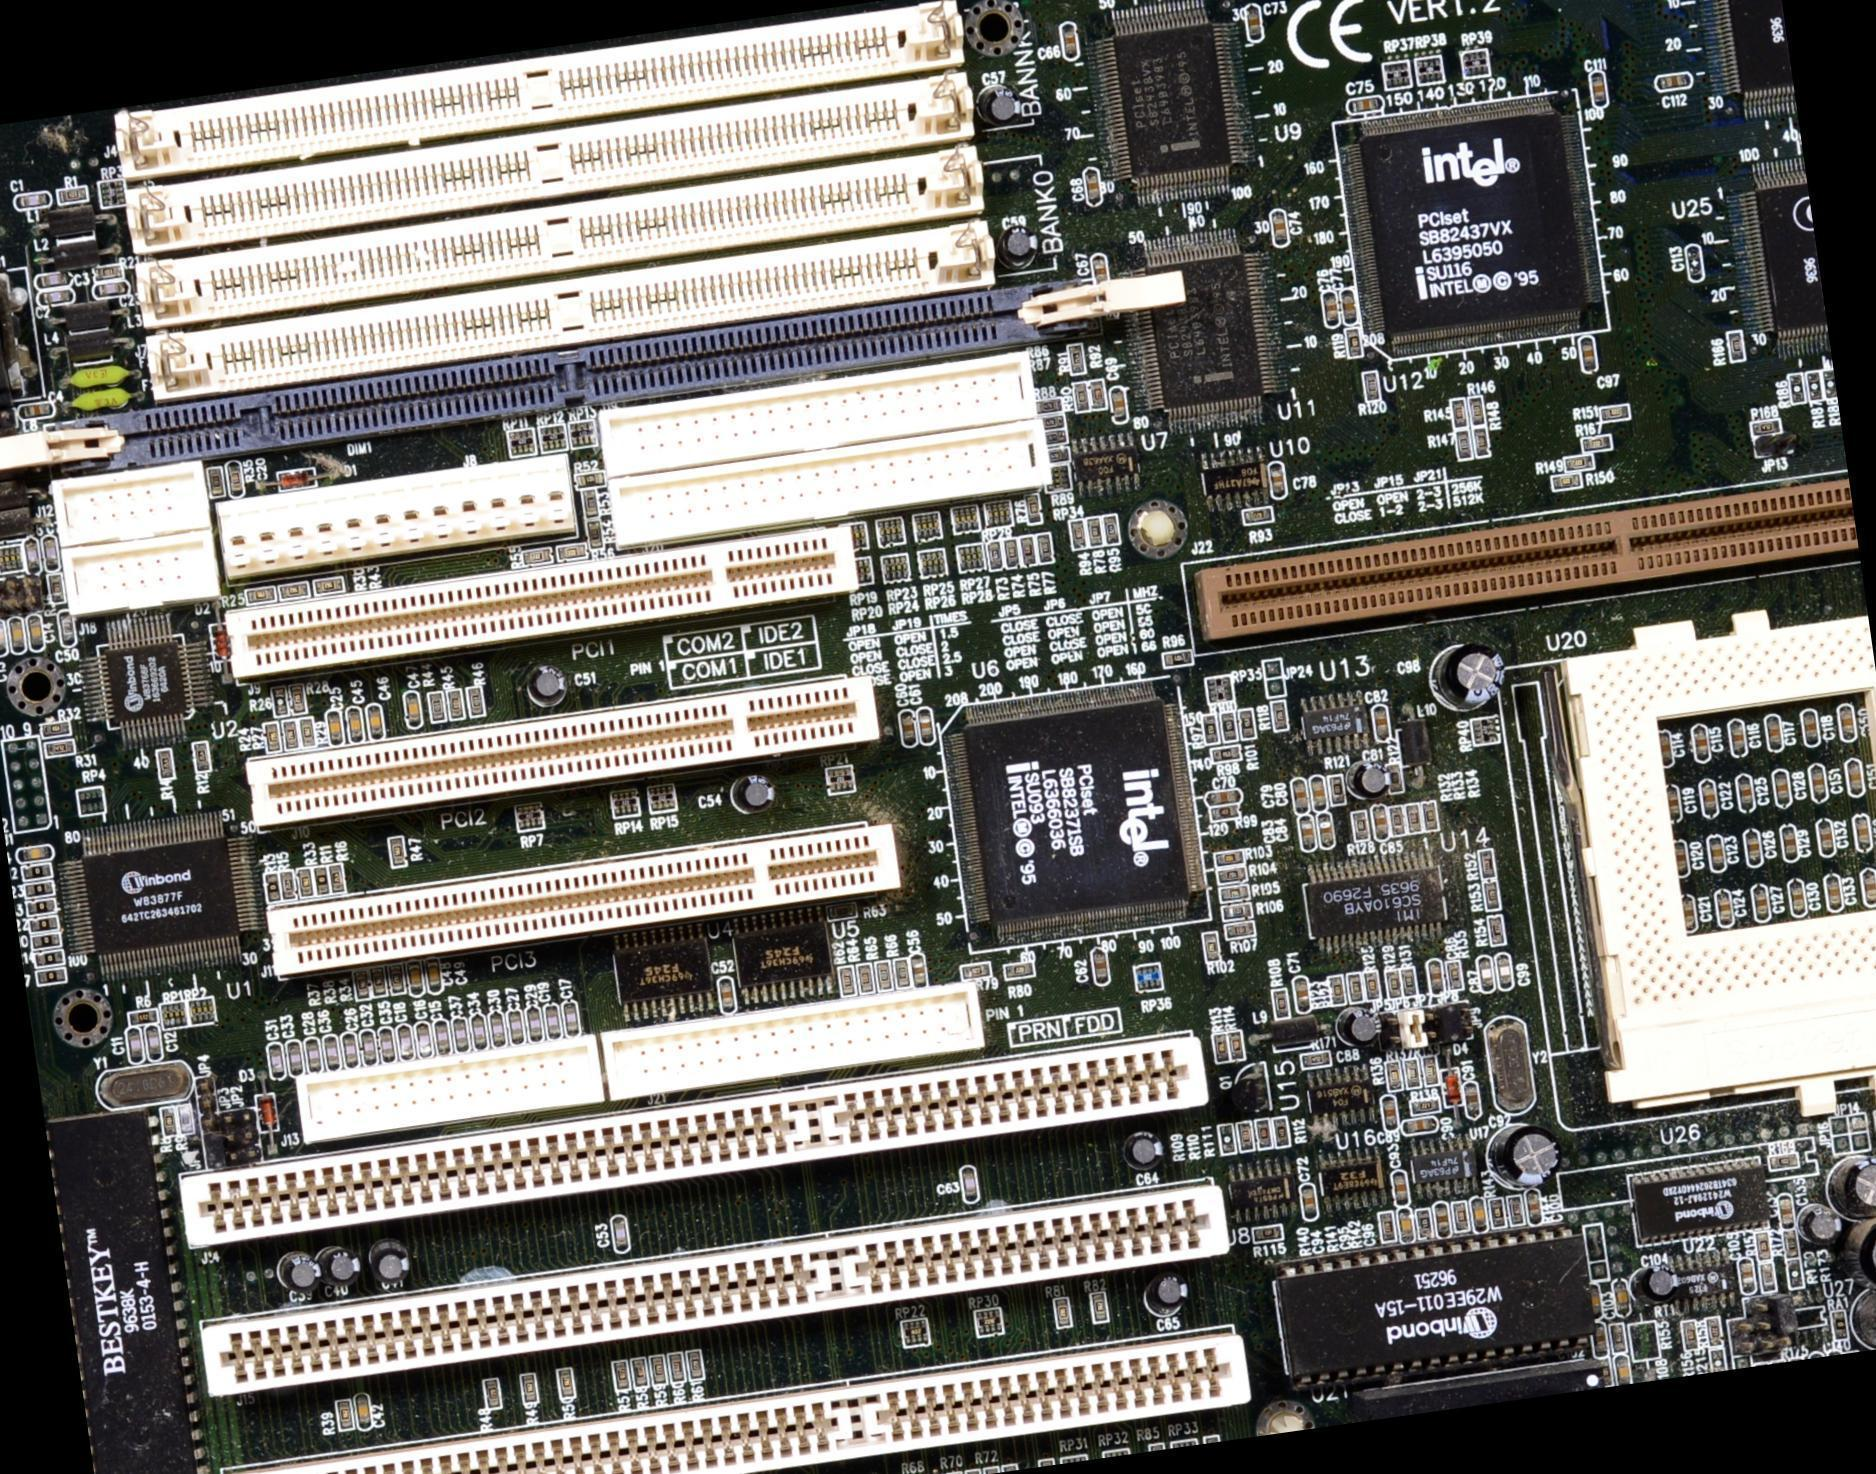Capacitor: (1348, 760, 1389, 800), (1738, 822, 1769, 869), (1803, 757, 1832, 805), (1682, 241, 1708, 291), (1820, 870, 1847, 915), (1838, 757, 1867, 800), (1703, 831, 1731, 874), (1770, 764, 1795, 809), (1731, 772, 1757, 815), (1724, 712, 1747, 760), (1852, 807, 1875, 852), (1798, 707, 1822, 749), (606, 1212, 632, 1252), (1814, 818, 1837, 860), (1835, 702, 1858, 743), (36, 288, 77, 310), (896, 713, 919, 750), (909, 953, 930, 996), (1296, 1180, 1319, 1220), (1735, 1256, 1757, 1296), (1699, 780, 1721, 821), (1779, 821, 1799, 865), (1856, 863, 1875, 910), (1672, 837, 1693, 877), (1786, 879, 1807, 918), (1494, 952, 1515, 992), (1377, 1093, 1398, 1133), (413, 1018, 435, 1056), (225, 460, 248, 496), (451, 1011, 471, 1052), (376, 1023, 396, 1064), (718, 975, 738, 1015), (1764, 712, 1784, 751), (1713, 887, 1735, 926), (23, 538, 44, 575), (521, 1007, 544, 1042), (42, 532, 62, 571), (347, 707, 367, 746), (13, 191, 51, 212), (398, 1021, 419, 1059), (1576, 339, 1600, 371), (1268, 462, 1289, 498), (1088, 250, 1111, 283), (505, 1002, 526, 1040), (489, 1005, 508, 1043), (1462, 1083, 1481, 1121), (544, 1001, 562, 1041), (1749, 881, 1768, 923), (123, 1028, 145, 1063), (1391, 1169, 1412, 1205), (7, 616, 29, 652), (1308, 773, 1327, 813), (145, 1025, 164, 1061), (561, 1001, 580, 1037), (1680, 894, 1699, 931), (1292, 974, 1310, 1014), (1288, 781, 1310, 815), (964, 1165, 981, 1208), (433, 1016, 450, 1054), (471, 1013, 489, 1051), (1469, 1196, 1488, 1233), (1297, 816, 1317, 851), (1589, 71, 1609, 106), (1657, 71, 1691, 92), (1082, 168, 1102, 203), (1270, 210, 1290, 245), (24, 616, 44, 652), (1690, 725, 1709, 762), (1112, 386, 1130, 422), (1657, 728, 1674, 768), (1345, 96, 1384, 113), (1611, 1355, 1633, 1385), (305, 1036, 323, 1071), (287, 1041, 305, 1076), (356, 1394, 374, 1429), (1777, 1194, 1796, 1229), (92, 282, 127, 300), (1324, 293, 1342, 327), (367, 706, 385, 741), (1063, 22, 1082, 54), (423, 957, 441, 990), (1477, 958, 1495, 991), (1402, 1117, 1439, 1135), (1397, 1209, 1414, 1242), (35, 269, 69, 288), (1667, 783, 1682, 822), (326, 1032, 343, 1068), (342, 1032, 360, 1067), (269, 1043, 287, 1078), (1426, 960, 1442, 994), (1433, 1202, 1449, 1236), (1590, 1321, 1606, 1357), (1346, 289, 1363, 325), (1248, 7, 1266, 41), (1372, 805, 1388, 839), (1612, 1281, 1629, 1314), (404, 691, 420, 724), (916, 709, 933, 741), (18, 844, 51, 861), (1374, 706, 1390, 738), (1205, 790, 1239, 805), (1318, 814, 1334, 848), (362, 1031, 378, 1064), (1526, 1192, 1541, 1226), (58, 612, 75, 643), (406, 960, 422, 991), (327, 711, 342, 743), (1589, 1285, 1602, 1317), (0, 620, 8, 655), (1808, 1348, 1824, 1358)
Connector: (0, 270, 1133, 492), (203, 1183, 1227, 1399), (183, 1038, 1208, 1244), (131, 138, 994, 331), (114, 0, 964, 184), (217, 1323, 1255, 1473), (153, 221, 993, 398), (130, 78, 968, 252), (303, 982, 983, 1140), (262, 820, 905, 981), (250, 670, 878, 830), (227, 529, 855, 676), (603, 350, 1044, 476), (611, 422, 1048, 543), (220, 451, 579, 572), (53, 462, 211, 548), (57, 539, 222, 612)
IC: (1329, 85, 1609, 369), (941, 667, 1211, 944), (45, 1108, 213, 1473), (1270, 1210, 1600, 1391), (56, 806, 269, 983), (1087, 0, 1261, 213), (1114, 230, 1292, 427), (78, 609, 219, 751), (1292, 844, 1456, 959), (1740, 157, 1830, 355), (1348, 1360, 1606, 1423), (722, 904, 845, 1012), (608, 922, 721, 1029), (1693, 0, 1796, 113), (1627, 1160, 1763, 1238), (1218, 1153, 1299, 1225), (1071, 427, 1146, 497), (1302, 1064, 1378, 1132), (1407, 1133, 1483, 1198), (1316, 1148, 1386, 1212), (1200, 447, 1270, 511), (1298, 694, 1372, 752)
Resistor: (1048, 1291, 1077, 1337), (1034, 436, 1069, 466), (873, 960, 897, 995), (1240, 504, 1277, 526), (335, 1397, 358, 1431), (1756, 1260, 1779, 1294), (1453, 428, 1474, 464), (827, 900, 860, 923), (1804, 373, 1827, 406), (666, 1348, 686, 1382), (1562, 452, 1594, 475), (55, 184, 89, 205), (1250, 1225, 1283, 1245), (1579, 432, 1610, 455), (1376, 1209, 1397, 1244), (1068, 343, 1087, 378), (1213, 865, 1246, 886), (1202, 933, 1223, 966), (174, 1104, 195, 1136), (1232, 1120, 1253, 1153), (1085, 1289, 1107, 1322), (244, 585, 275, 606), (269, 687, 291, 718), (1299, 1049, 1333, 1069), (1421, 1054, 1440, 1087), (1784, 1256, 1805, 1290), (281, 716, 302, 749), (1479, 882, 1502, 911), (1596, 402, 1627, 424), (260, 723, 282, 754), (388, 960, 406, 994), (1408, 1098, 1443, 1116), (1161, 650, 1196, 669), (128, 1008, 160, 1028), (837, 961, 857, 993), (856, 964, 876, 996), (1270, 1115, 1290, 1146), (1414, 1207, 1434, 1239), (519, 1371, 539, 1403), (1030, 396, 1061, 416), (575, 471, 608, 491), (40, 721, 72, 740), (555, 1368, 575, 1396), (206, 466, 227, 495), (1448, 399, 1469, 428), (1223, 922, 1256, 939), (1488, 1197, 1506, 1230), (687, 1346, 705, 1380), (92, 264, 125, 282), (1788, 372, 1806, 405), (1072, 382, 1092, 413), (1027, 494, 1046, 524), (1068, 523, 1090, 548), (635, 1355, 651, 1390), (312, 578, 347, 596), (1751, 418, 1786, 436), (895, 958, 913, 990), (1272, 989, 1290, 1020), (1403, 1056, 1421, 1087), (1768, 1154, 1800, 1172), (290, 684, 308, 716), (42, 740, 74, 758), (34, 948, 63, 968), (445, 690, 464, 719), (157, 749, 176, 778), (24, 879, 54, 898), (353, 970, 370, 1003), (1218, 886, 1251, 903), (390, 834, 406, 868), (29, 933, 62, 950), (1327, 772, 1344, 803), (1352, 811, 1370, 842), (368, 965, 387, 996), (161, 1106, 179, 1136), (1328, 975, 1346, 1005), (1212, 1033, 1231, 1063), (1218, 1122, 1236, 1153), (1704, 1316, 1722, 1346), (1681, 1320, 1699, 1350), (1469, 395, 1487, 425), (1472, 429, 1491, 460), (299, 717, 317, 748), (1384, 969, 1401, 1000), (1229, 1029, 1245, 1062), (47, 573, 64, 604), (278, 583, 310, 600), (21, 862, 53, 879), (1238, 708, 1255, 740), (466, 685, 484, 714), (27, 897, 57, 915), (299, 867, 316, 895), (1404, 801, 1421, 832), (1215, 848, 1245, 865), (1221, 904, 1252, 921), (1447, 959, 1463, 990), (1254, 1119, 1271, 1150), (1507, 1195, 1524, 1226), (1363, 370, 1380, 401), (1005, 536, 1020, 570), (1550, 472, 1581, 489), (429, 690, 446, 721), (1037, 532, 1055, 559), (1821, 369, 1837, 400), (196, 741, 212, 773), (1756, 1231, 1772, 1260), (1610, 1322, 1626, 1351), (582, 489, 599, 517), (1206, 804, 1236, 819), (38, 968, 68, 984), (1364, 970, 1380, 1000), (587, 520, 602, 549), (1488, 916, 1505, 944), (1400, 968, 1416, 996), (1388, 806, 1404, 835), (1420, 801, 1436, 830), (1479, 849, 1494, 879), (1452, 1202, 1468, 1230), (485, 1378, 501, 1407), (1346, 328, 1362, 356), (1094, 380, 1109, 410), (1039, 414, 1067, 430), (1020, 538, 1035, 567), (330, 862, 346, 891), (30, 916, 59, 932), (651, 1352, 665, 1384), (266, 873, 280, 904), (1386, 1062, 1403, 1087), (1044, 431, 1070, 448), (1388, 763, 1403, 793), (1347, 972, 1362, 1002), (1709, 1349, 1727, 1372), (525, 549, 552, 565), (280, 871, 296, 899), (315, 866, 330, 894), (558, 543, 587, 558), (1222, 712, 1237, 741), (1210, 746, 1240, 760), (1728, 334, 1743, 360), (1103, 515, 1117, 540), (1271, 700, 1285, 728), (613, 1358, 626, 1389), (988, 542, 1002, 568), (1204, 717, 1218, 743), (1784, 1232, 1799, 1257), (1088, 517, 1101, 543), (1200, 1433, 1221, 1444), (983, 1463, 1004, 1473), (1039, 1458, 1053, 1466), (964, 1467, 981, 1473), (947, 1470, 961, 1473)
